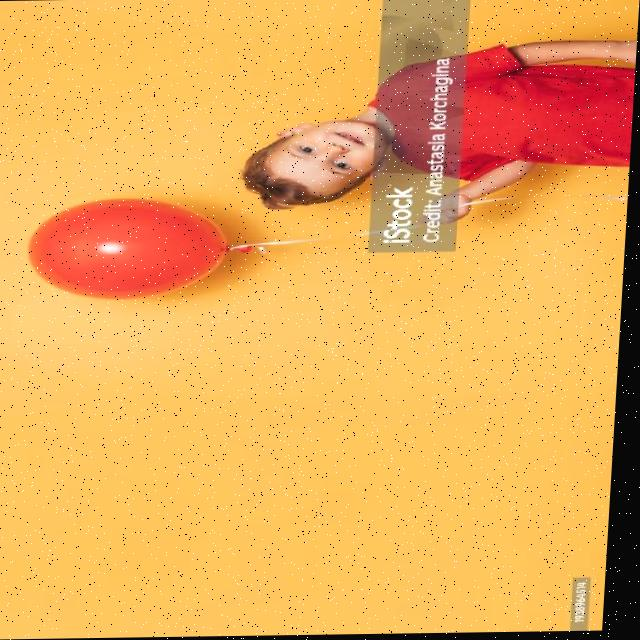balloon: (12, 192, 253, 302)
